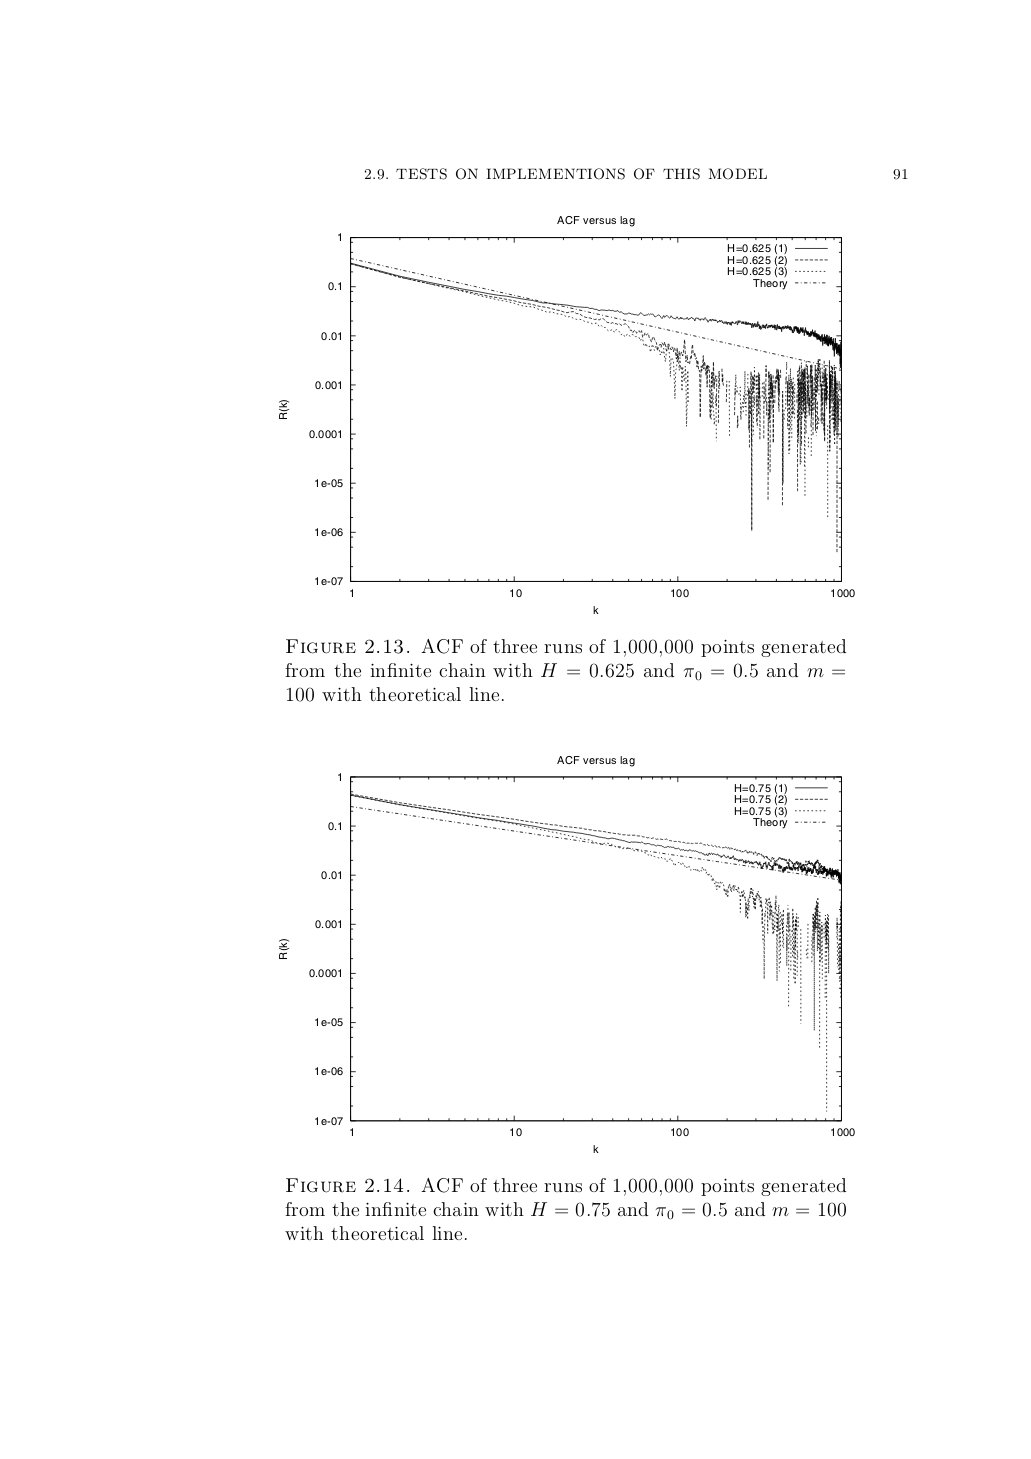figure: (279, 773, 854, 1152), (279, 233, 854, 606)
